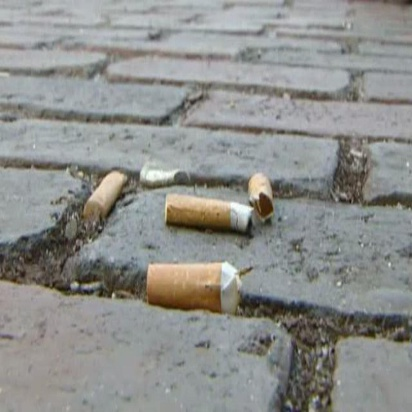cigarette: (137, 255, 247, 323), (163, 192, 262, 237), (85, 164, 127, 220), (243, 171, 276, 221), (138, 164, 189, 188)
